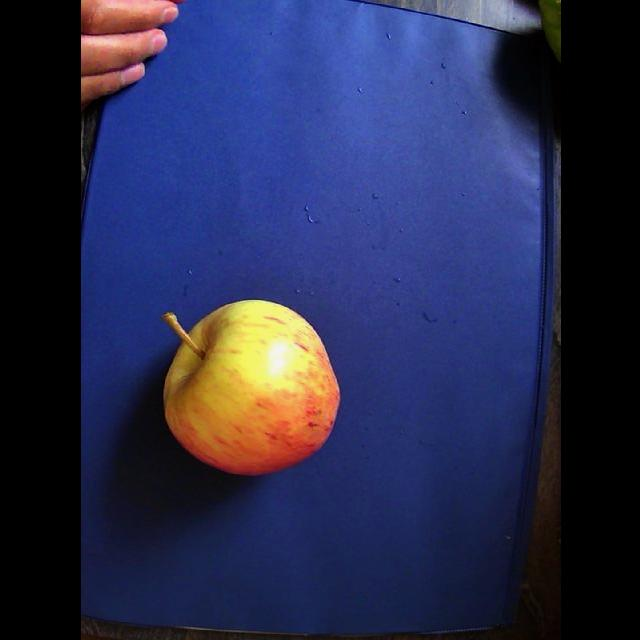manzana: (163, 301, 339, 476)
